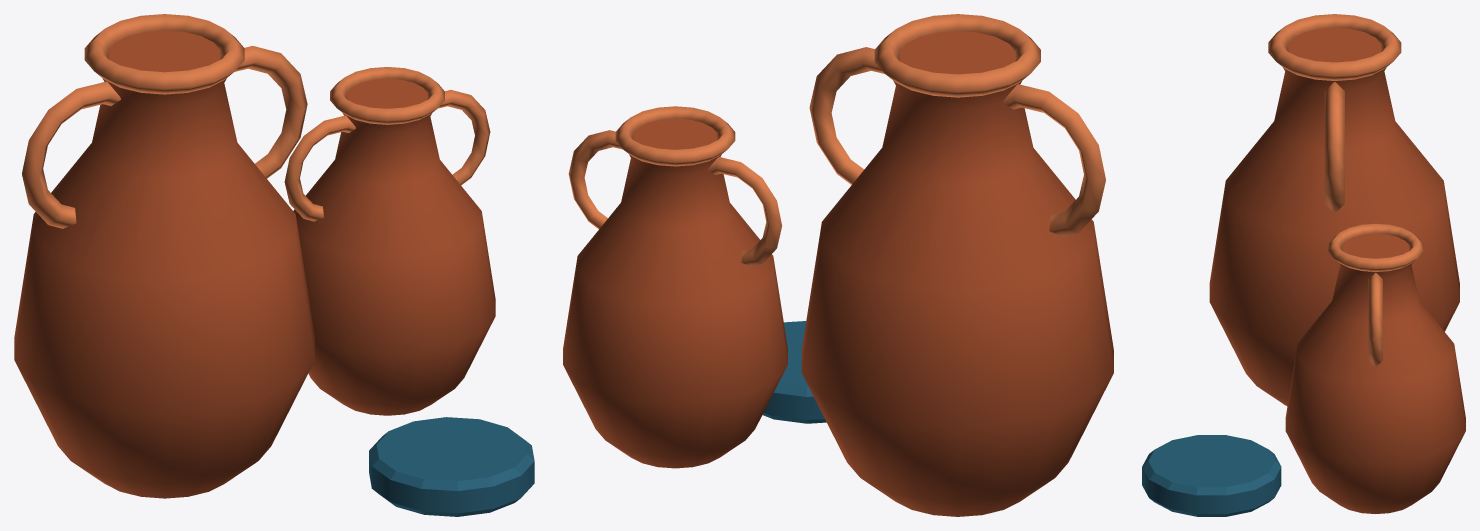
File: decor_amphora_cluster_LOD0.glb
3 renders of one model, left to right at view 1: azimuth 30°, elevation 25°; view 2: azimuth 150°, elevation 25°; view 3: azimuth 270°, elevation 25°, orthographic. The views are drawn at different scales.
Visible parts, largest first — view 1: decor_amphora_cluster_LOD0; view 2: decor_amphora_cluster_LOD0; view 3: decor_amphora_cluster_LOD0.
Part boxes in pixels (bbox=[...]): decor_amphora_cluster_LOD0: bbox=[14, 14, 534, 516]; decor_amphora_cluster_LOD0: bbox=[563, 14, 1113, 516]; decor_amphora_cluster_LOD0: bbox=[1142, 14, 1465, 516].
Size of the model in its own units: 1.16 by 0.985 by 0.7898.
